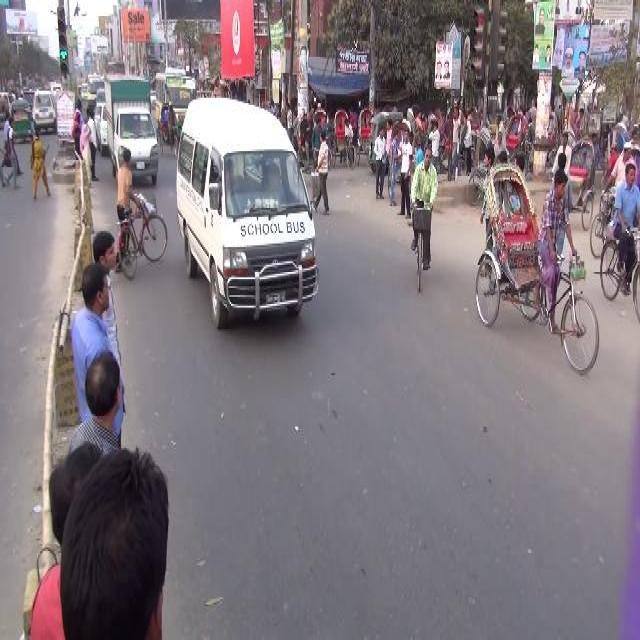bicycle: (596, 159, 640, 321), (408, 141, 440, 303), (112, 204, 170, 280)
bus: (153, 65, 197, 131), (84, 68, 104, 106)
minivan: (174, 91, 320, 332), (33, 83, 56, 141)
pickup: (102, 68, 162, 188)
rickshaw: (474, 151, 604, 382), (550, 134, 598, 236), (469, 126, 508, 208), (492, 113, 528, 179), (294, 108, 322, 190), (332, 109, 356, 172), (155, 100, 177, 156), (604, 114, 632, 156), (357, 105, 373, 165), (0, 93, 8, 135)
three wheelers -CNG-: (372, 106, 406, 172), (6, 97, 34, 145)
